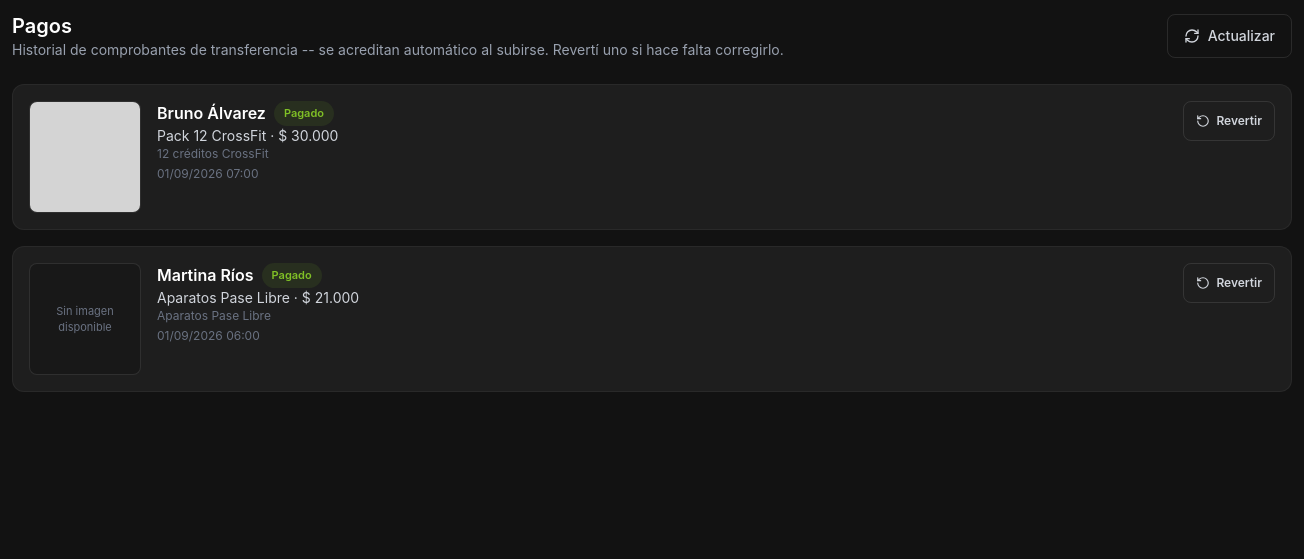
Test: Pagos (Fase 3 -- historial de comprobantes, acreditación automática + reversión) › Revertir CON avisos: banner persistente con el nombre del socio y CADA aviso en su propia línea, sin toast
The width and height of the screenshot is (1304, 559).
Expected: the text "Martina Ríos" is shown, top-left (157, 263), bottom-right (254, 287)
Click the button "Revertir" in the row of "Martina Ríos": x=1229, y=283 top-left (1183, 263), bottom-right (1275, 303)
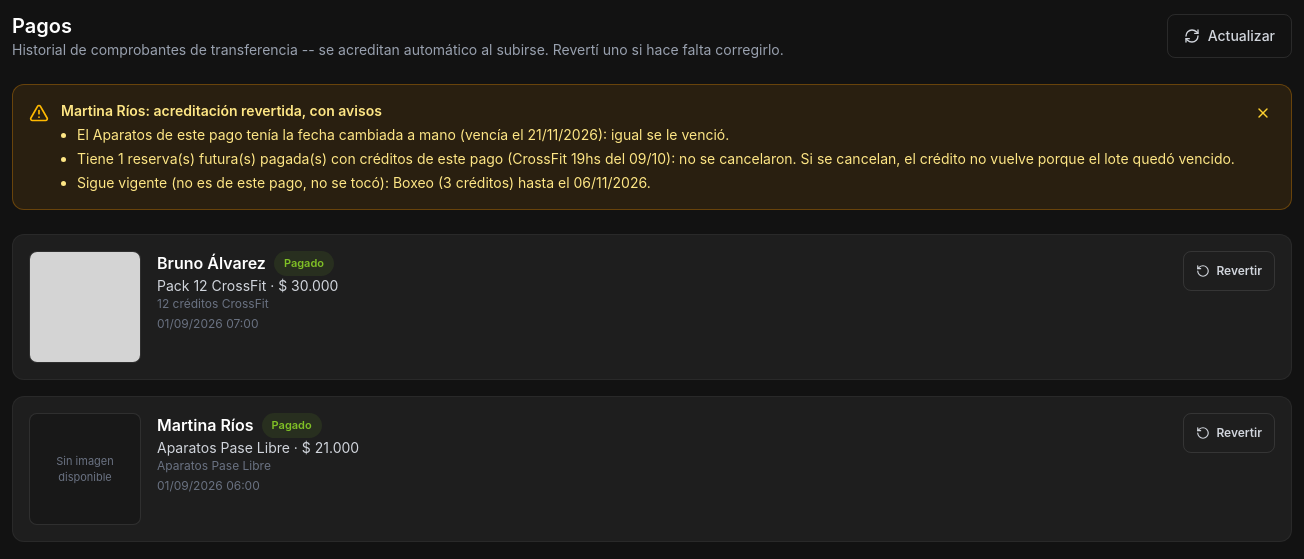
Result: the text "Martina Ríos: acreditación revertida, con avisos" is shown at top-left (61, 102), bottom-right (382, 119)
Result: the list items read "El Aparatos de este pago tenía la fecha cambiada a mano (vencía el 21/11/2026): igual se le venció.", "Tiene 1 reserva(s) futura(s) pagada(s) con créditos de este pago (CrossFit 19hs del 09/10): no se cancelaron. Si se cancelan, el crédito no vuelve porque el lot", "Sigue vigente (no es de este pago, no se tocó): Boxeo (3 créditos) hasta el 06/11/2026.", in this order at top-left (77, 126), bottom-right (729, 143); top-left (77, 149), bottom-right (1239, 169); top-left (77, 174), bottom-right (651, 191)
Result: the message is shown at top-left (12, 84), bottom-right (1292, 210)
Click the button named "Cerrar advertencia": x=1263, y=113 top-left (1251, 101), bottom-right (1275, 125)
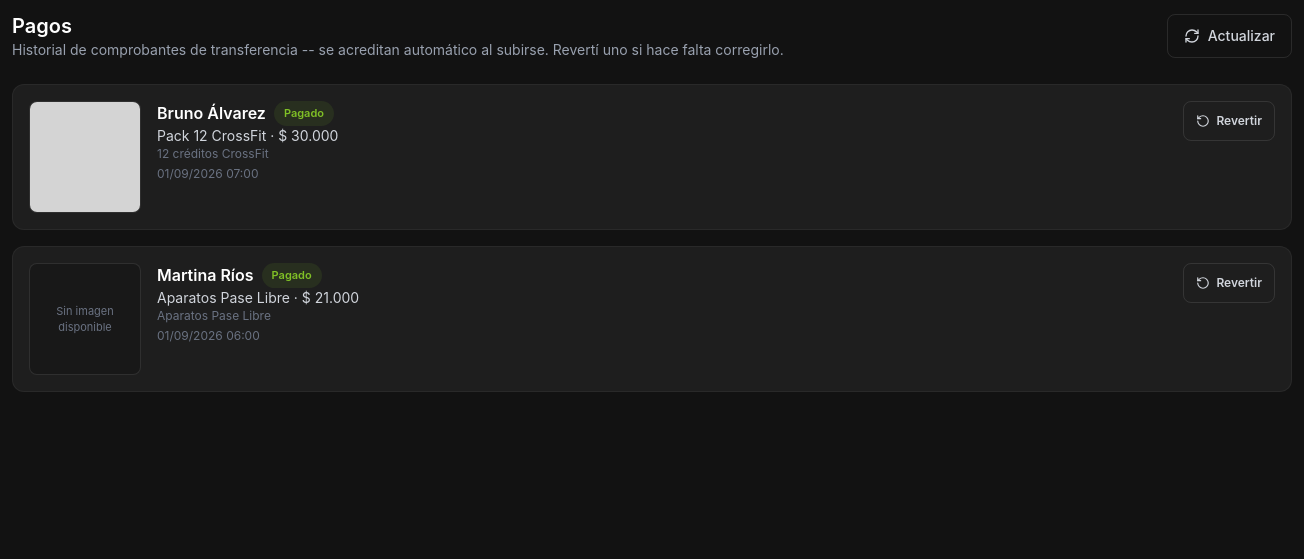
Result: the message "Martina Ríos: acreditación revertida, con avisos El Aparatos de este pago tenía" is gone
